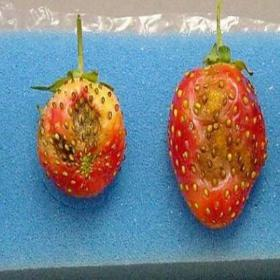Anthracnose Fruit Rot: (179, 60, 264, 194), (37, 84, 112, 181)
